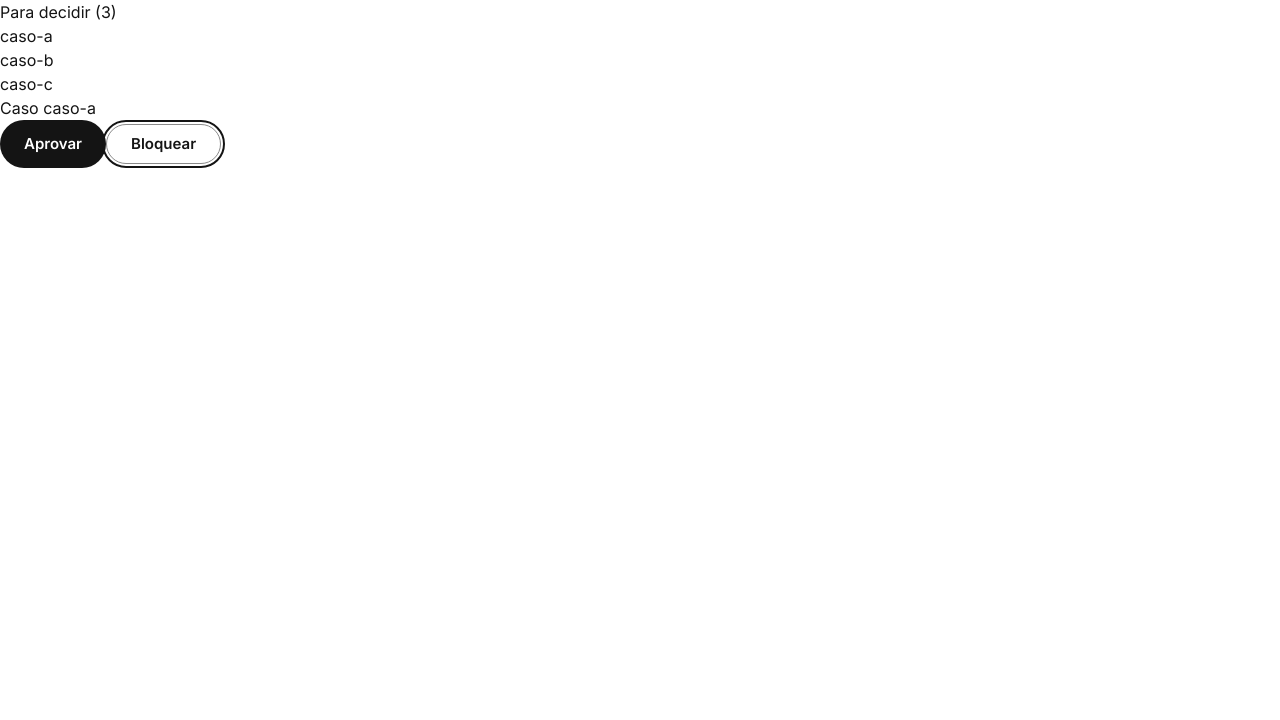
Test: Bloquear dialog (T107; AC 38; D10; F5, F6, F7) › on ok: the dialog closes, toast.blocked + toast.audit, then /fila/{next} with focus on its heading
Click the button "Bloquear": (164, 144) [106,124,221,164]
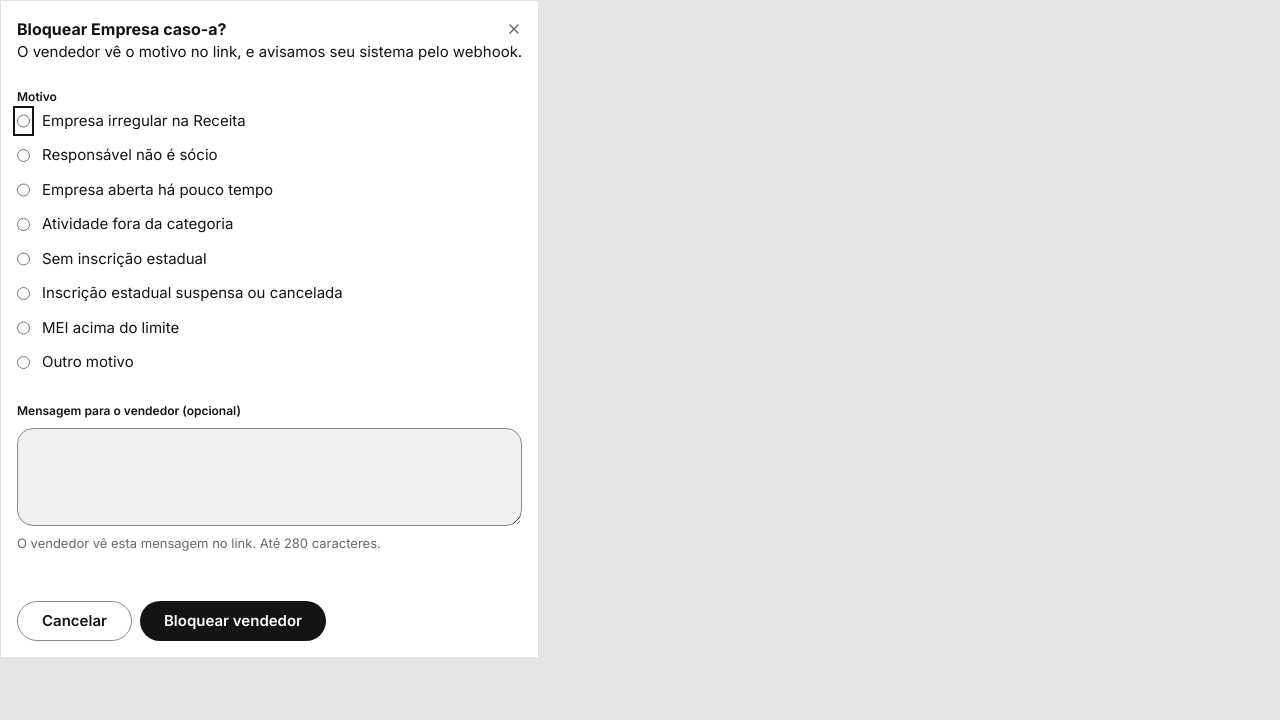
Click the radio button labelled "Outro motivo": (24, 362) [17,351,30,374]
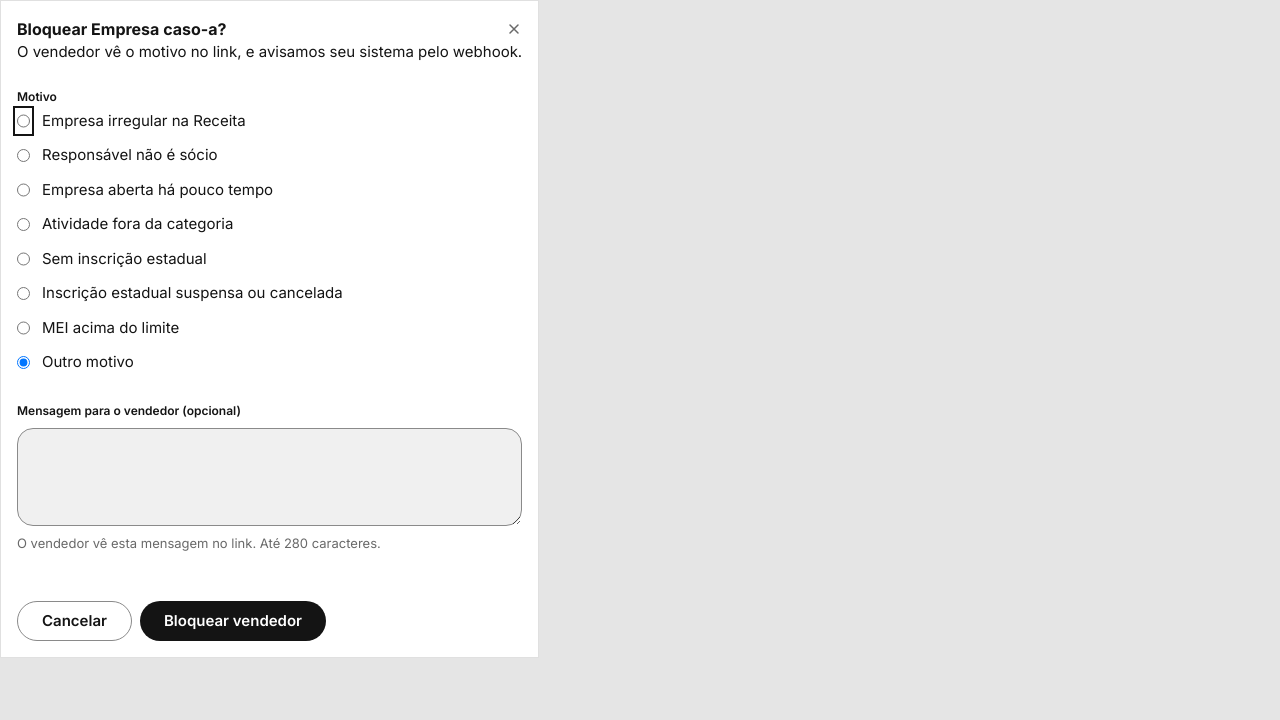
Click the button "Bloquear vendedor": (233, 621) [140,601,326,641]
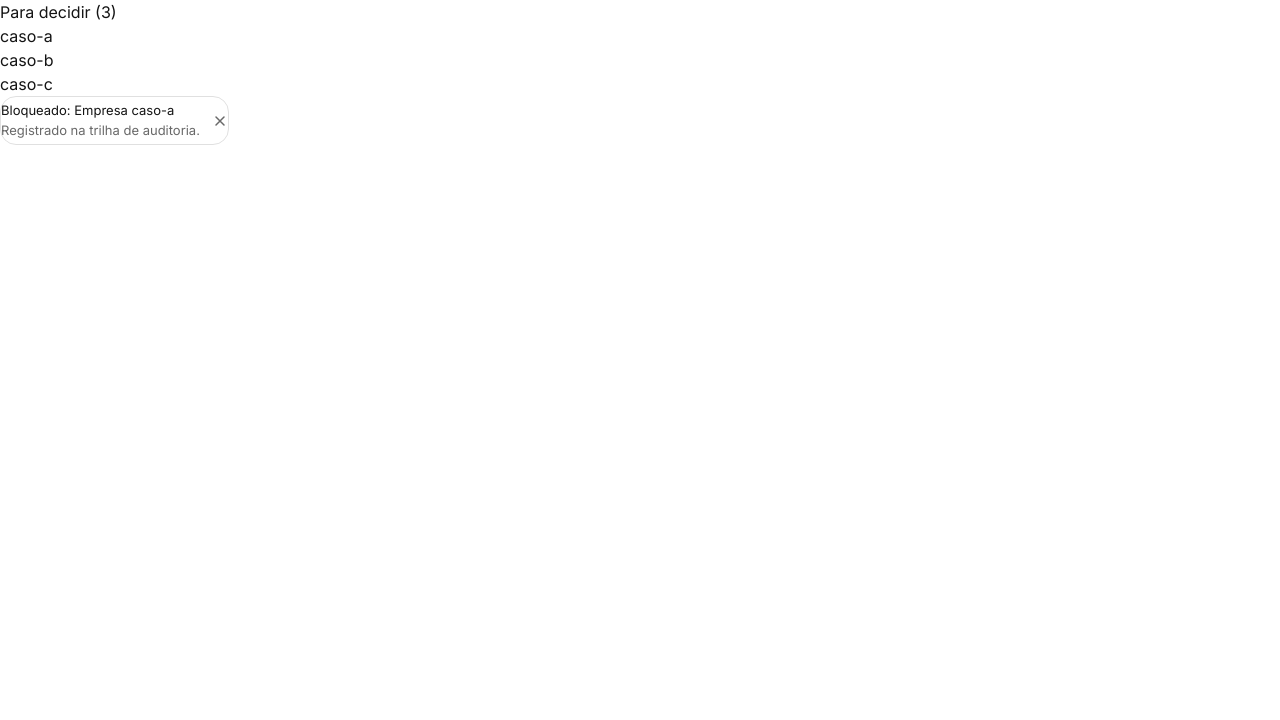
expect the dialog is gone: met
expect the element showing "Bloqueado: Empresa caso-a Registrado na trilha de auditoria." is shown: met, box [1,97,200,144]
